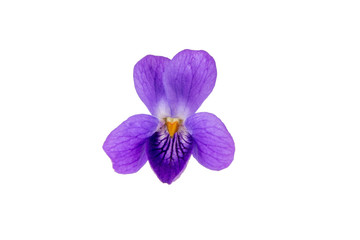violet: (109, 46, 241, 197)
